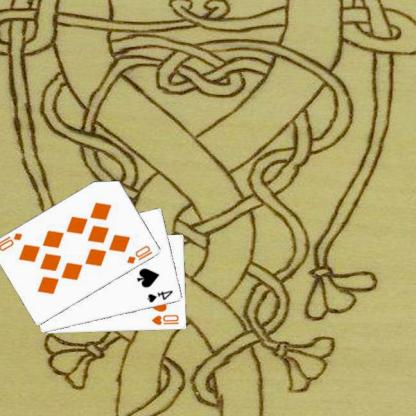10D: (126, 243, 156, 265), (0, 230, 26, 252)
10H: (151, 312, 182, 327)
4S: (146, 288, 176, 304)
